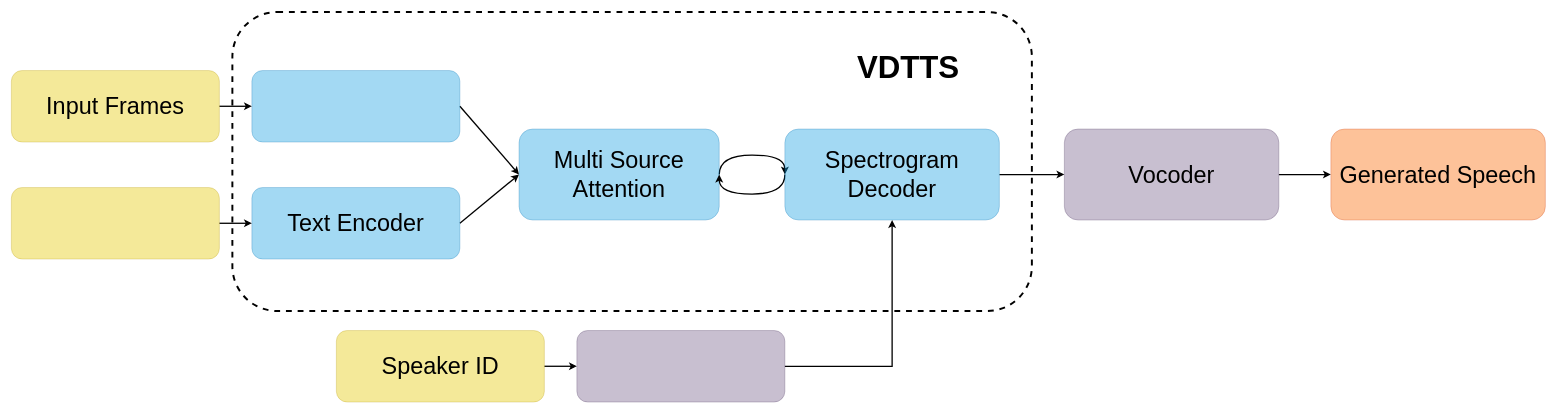
Some shapes in this 1557 by 413 pixel diagram are drawn without their labels. The centre of each missing label's shape, as x and y in pixels:
Input Text: (115,223)
Speaker Encoder: (680,366)
Video Encoder: (355,106)
